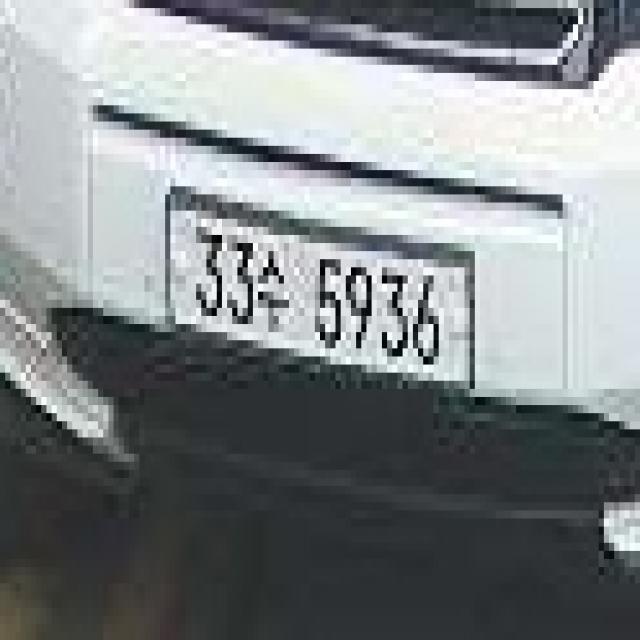3: (191, 219, 227, 324), (222, 235, 258, 324), (377, 268, 408, 364)
5: (314, 251, 340, 357)
6: (408, 267, 444, 373)
9: (341, 259, 372, 365)
license_plate: (165, 186, 480, 397)
su: (253, 243, 289, 332)
